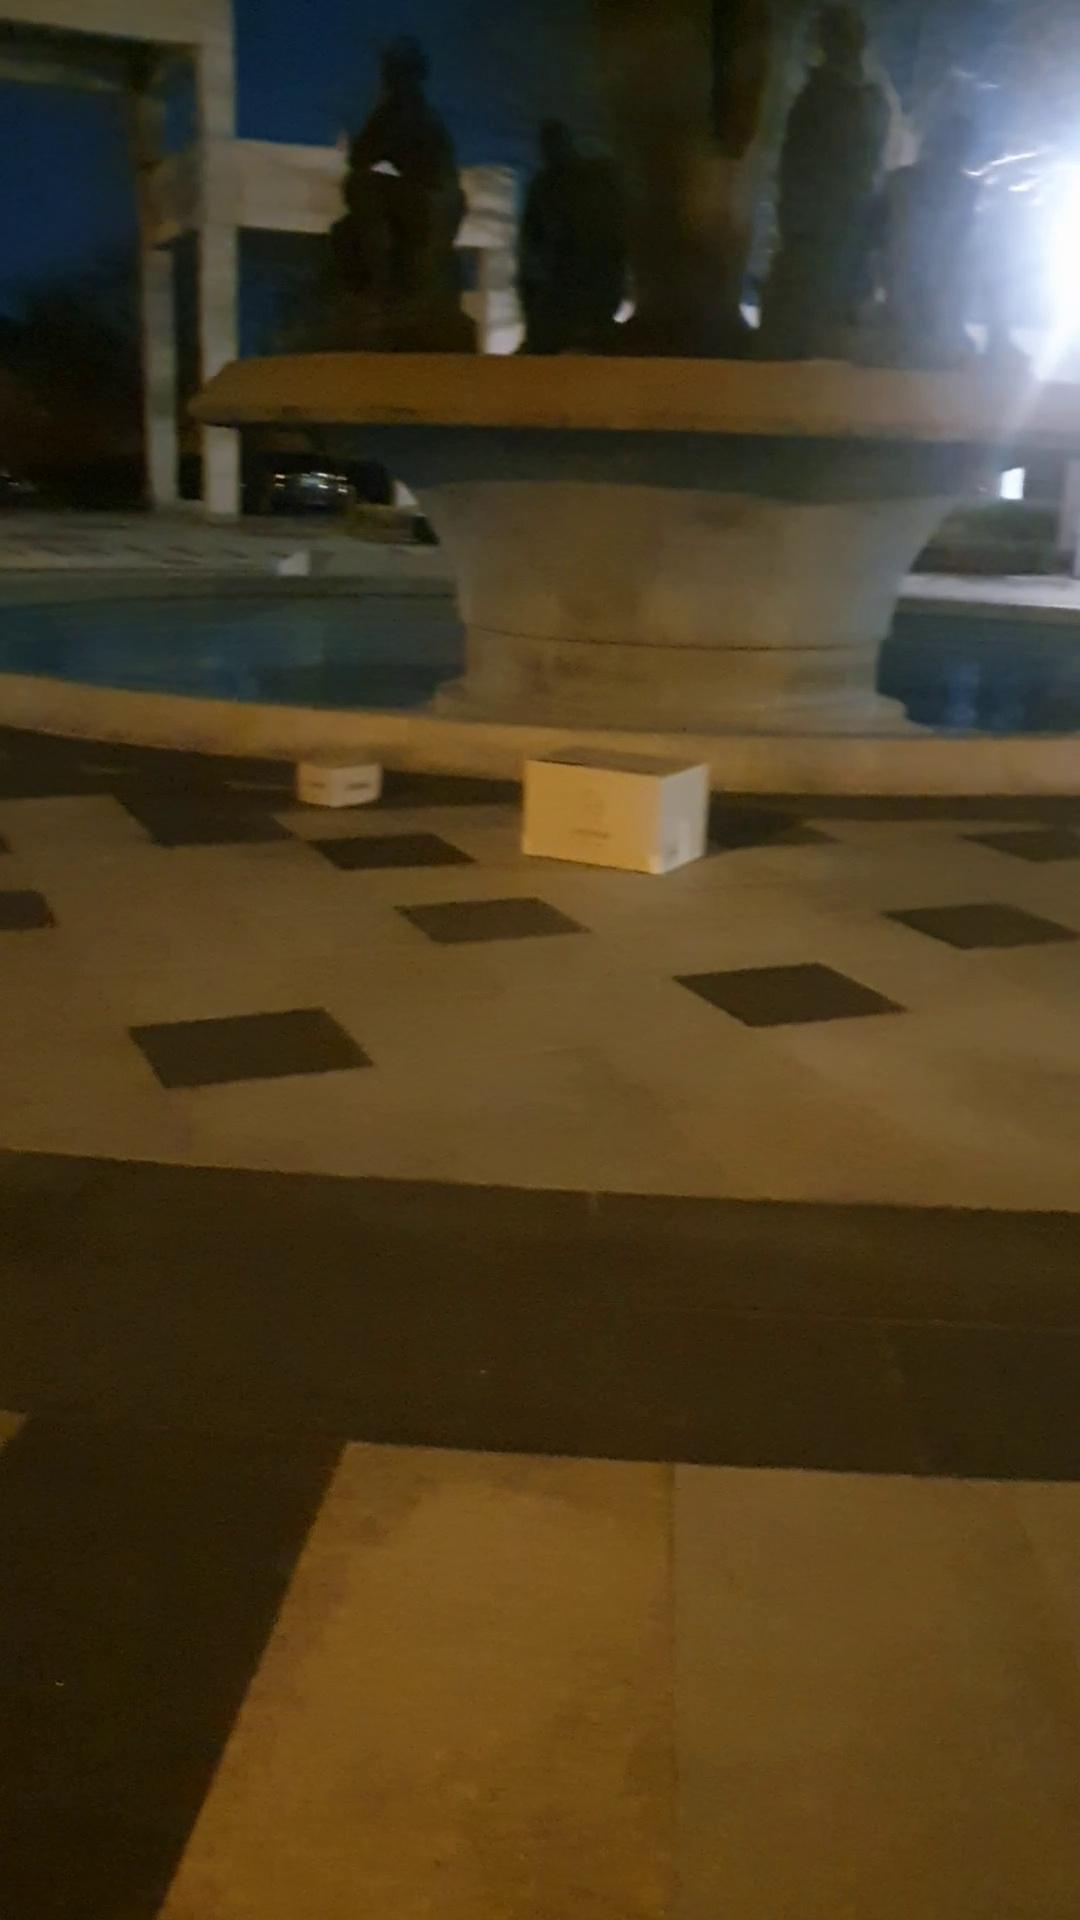Box: (512, 742, 709, 885), (284, 731, 405, 825)
